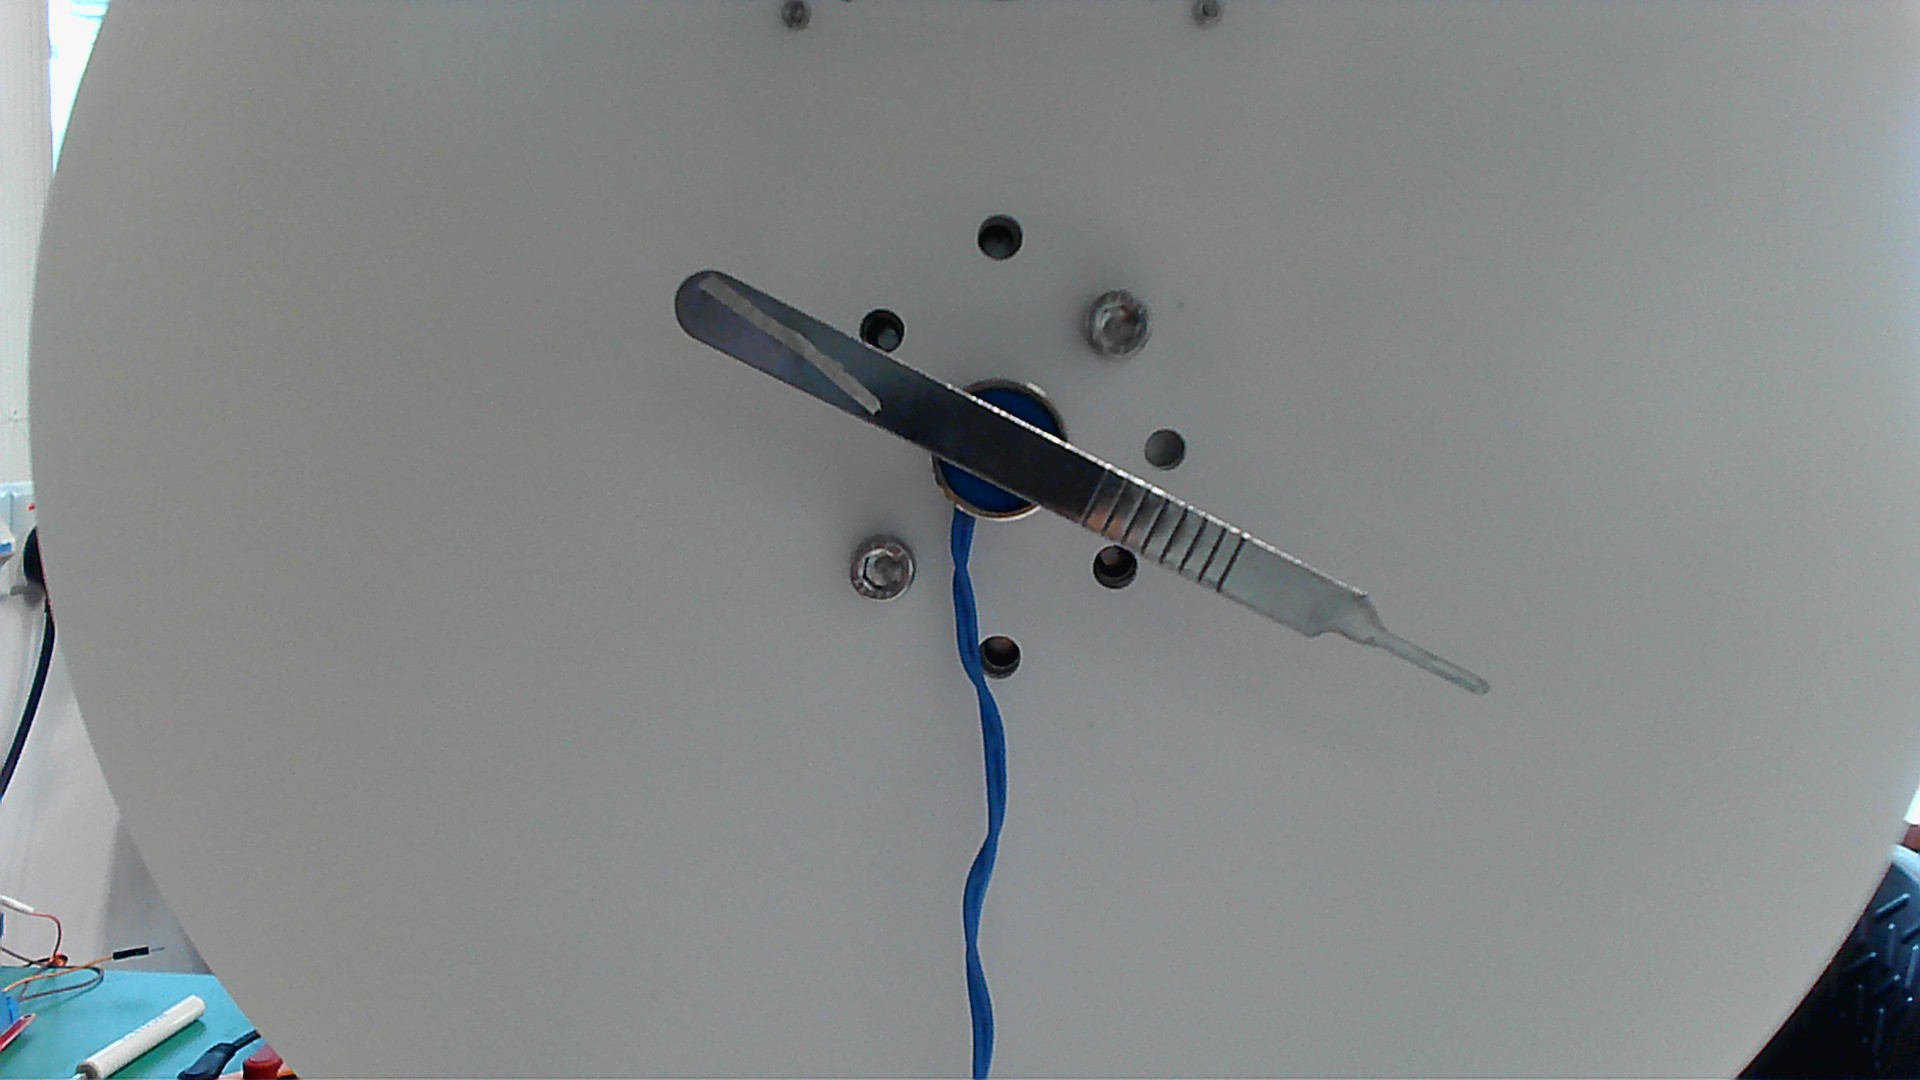Scratches: (688, 272, 889, 421)
